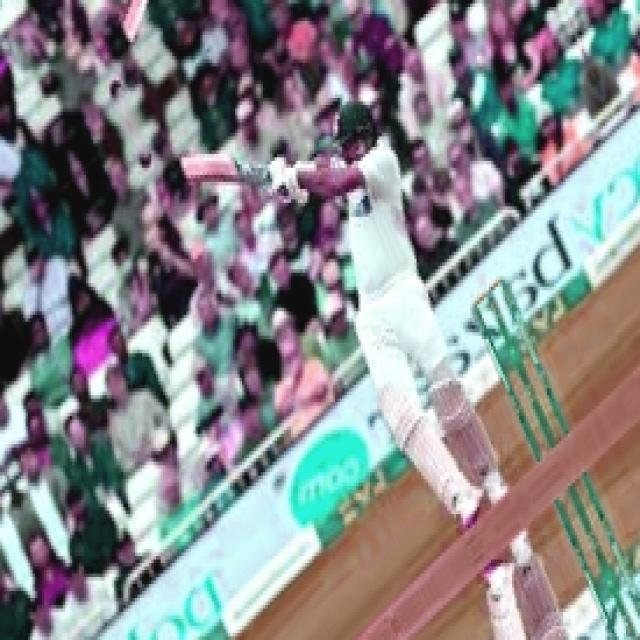toe: (182, 156, 192, 186)
